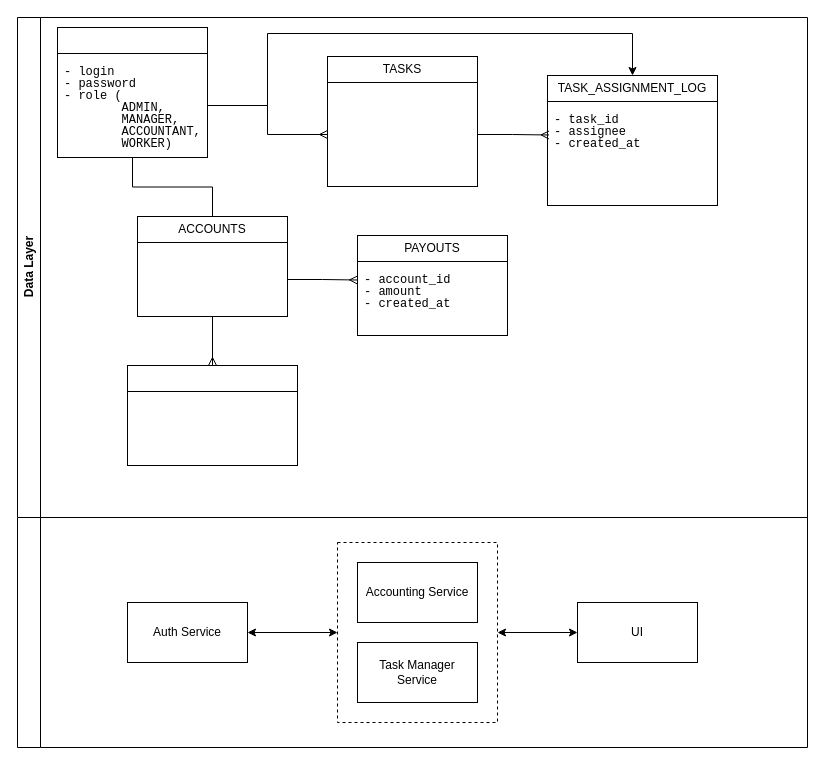
Some shapes in this 825 by 765 pixel diagram are drawn without their labels. Here are the shapes that lost their labels. From the top down, the box of each, then its label:
(56, 26, 208, 54): USERS
(326, 82, 478, 186): - description - is_done - assignee: FK Users(ID) - price
(136, 242, 288, 316): - user_id - balance
(126, 364, 298, 392): BALANCE_CHANGE_LOG
(126, 390, 298, 466): - account_id - delta - reason: TEXT - created_at
(16, 516, 808, 748): Application Layer
